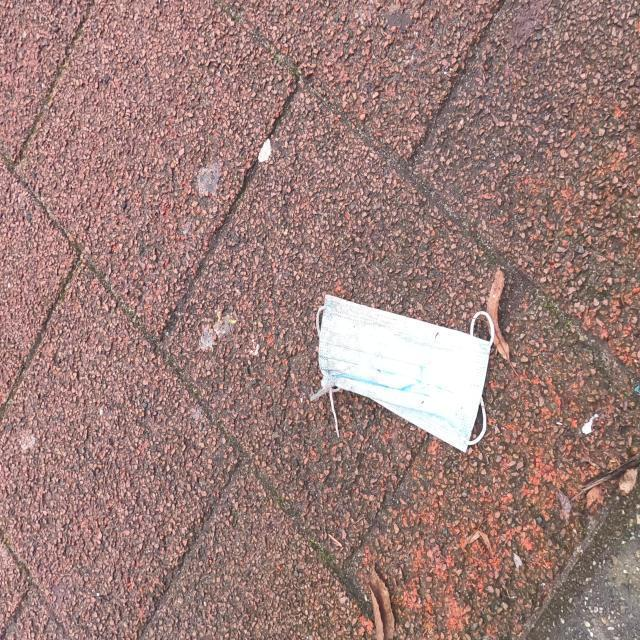Mask: (316, 292, 502, 450)
